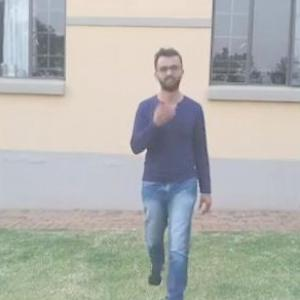follow: (128, 52, 199, 278)
